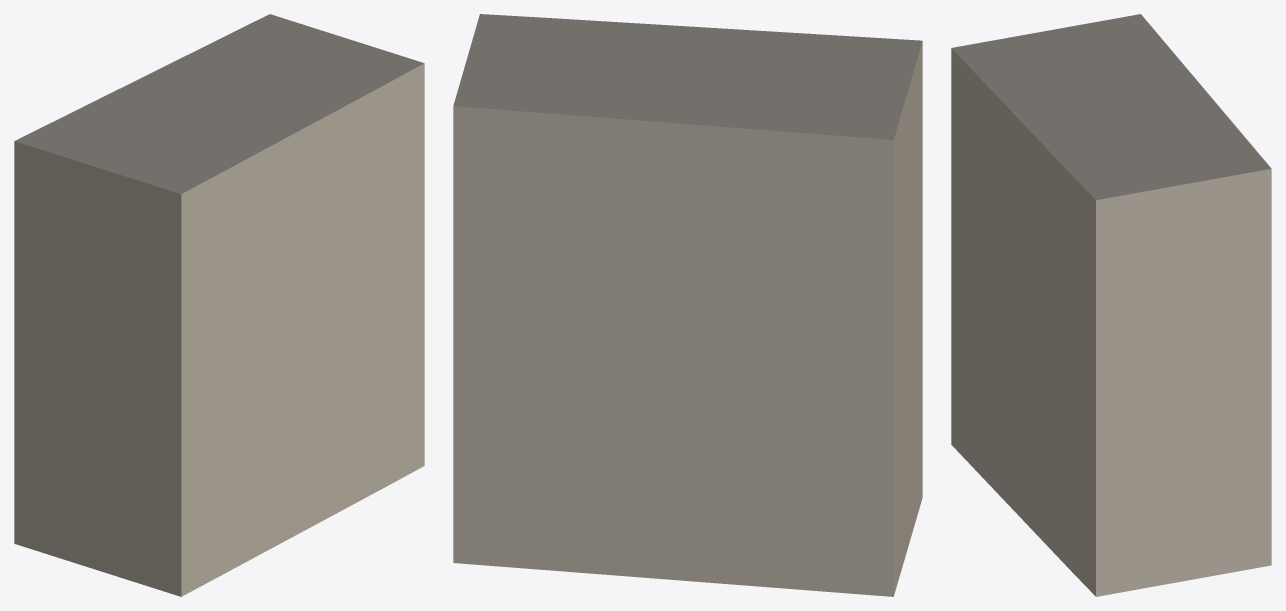
3 views of the same model, side by side, from view 1: azimuth 30°, elevation 25°; view 2: azimuth 150°, elevation 25°; view 3: azimuth 270°, elevation 25° (orthographic). The views are drawn at different scales.
Parts seen in each view (by area): view 1: HP-w1198569401; view 2: HP-w1198569401; view 3: HP-w1198569401.
Boxes of the visible parts, x1,y1,x2,y2 form: HP-w1198569401: [14, 14, 424, 596]; HP-w1198569401: [453, 14, 922, 596]; HP-w1198569401: [951, 14, 1271, 596].
Bounding box in the file's own units: 18.12 × 18 × 13.17.
